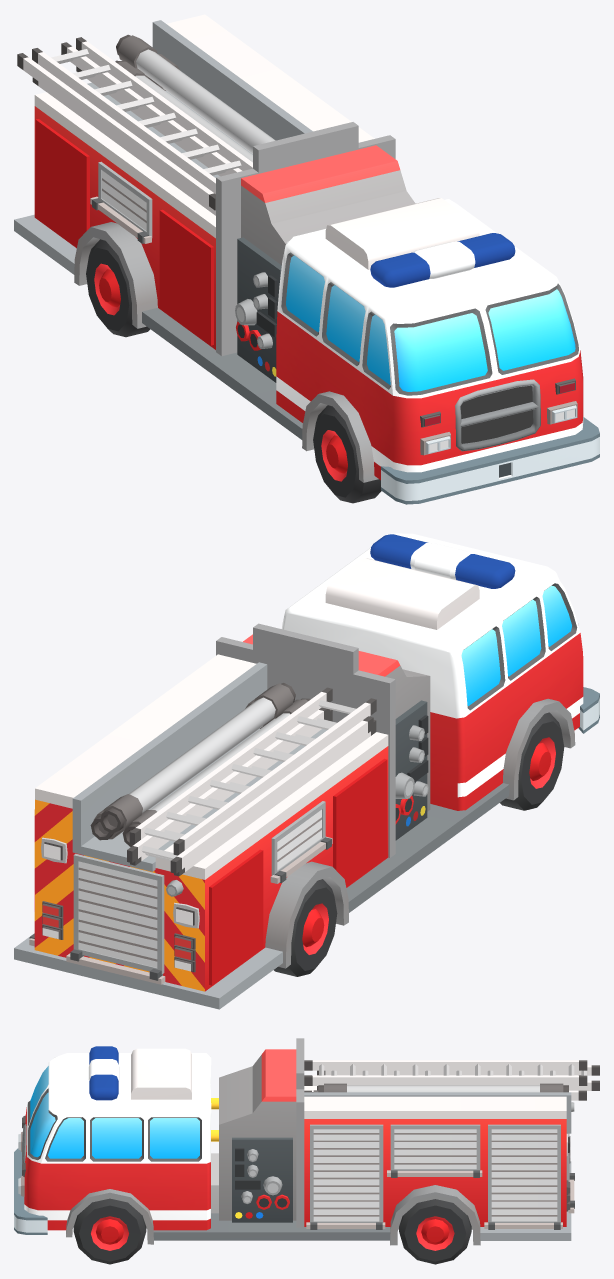
Rendered from Firetruck_01.glb.
3 renders of one model, top to bottom at view 1: azimuth 30°, elevation 25°; view 2: azimuth 150°, elevation 25°; view 3: azimuth 270°, elevation 25°, orthographic. The views are drawn at different scales.
Visible parts, largest first — view 1: Firetruck_01, Wheel_237, Wheel_238; view 2: Firetruck_01, Wheel_237, Wheel_238; view 3: Firetruck_01, Wheel_239, Wheel_240.
Part boxes in pixels (x1=…): Firetruck_01: x1=14, y1=14, x2=599, y2=504; Wheel_237: x1=313, y1=405, x2=381, y2=503; Wheel_238: x1=86, y1=239, x2=150, y2=337; Firetruck_01: x1=14, y1=533, x2=599, y2=1009; Wheel_237: x1=500, y1=712, x2=564, y2=810; Wheel_238: x1=274, y1=879, x2=337, y2=976; Firetruck_01: x1=14, y1=1038, x2=599, y2=1245; Wheel_239: x1=73, y1=1198, x2=146, y2=1264; Wheel_240: x1=399, y1=1199, x2=471, y2=1264.
Bounding box in the file's own units: 2.67 × 2.92 × 8.91.
Materials: 2 (2 with a texture image).
